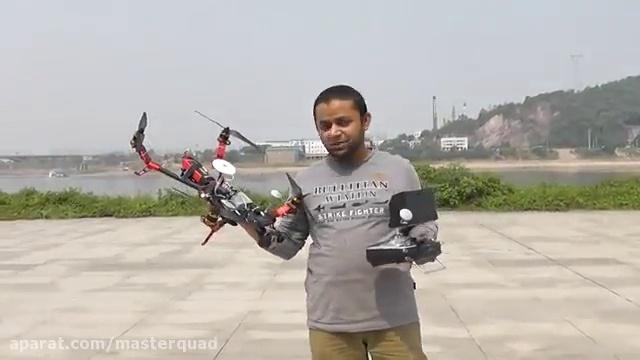drone: (128, 107, 314, 251)
